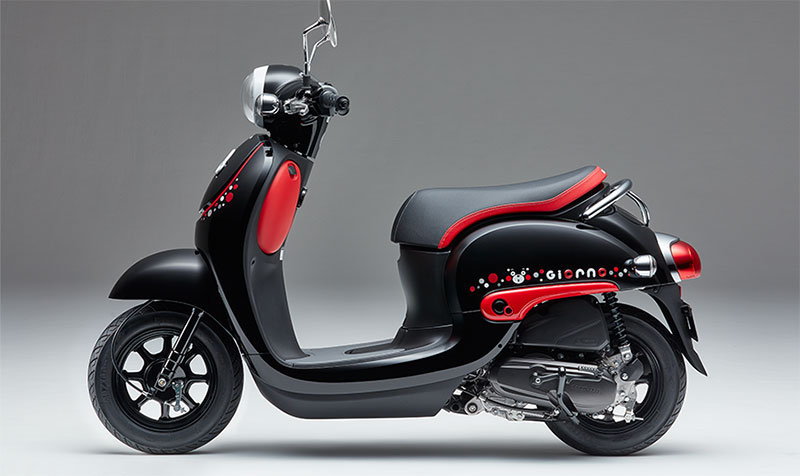motorcycle: (91, 60, 701, 456)
